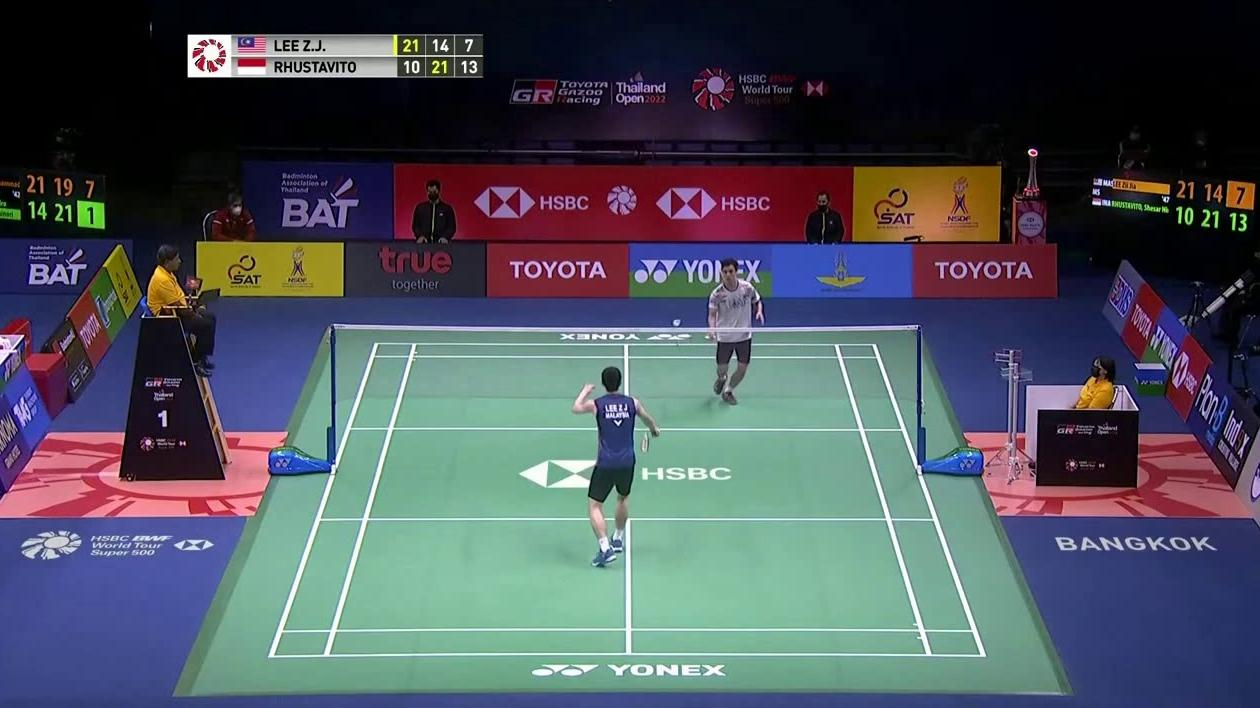racket: (676, 334, 716, 353), (640, 425, 661, 455)
shuttle: (672, 317, 682, 327)
